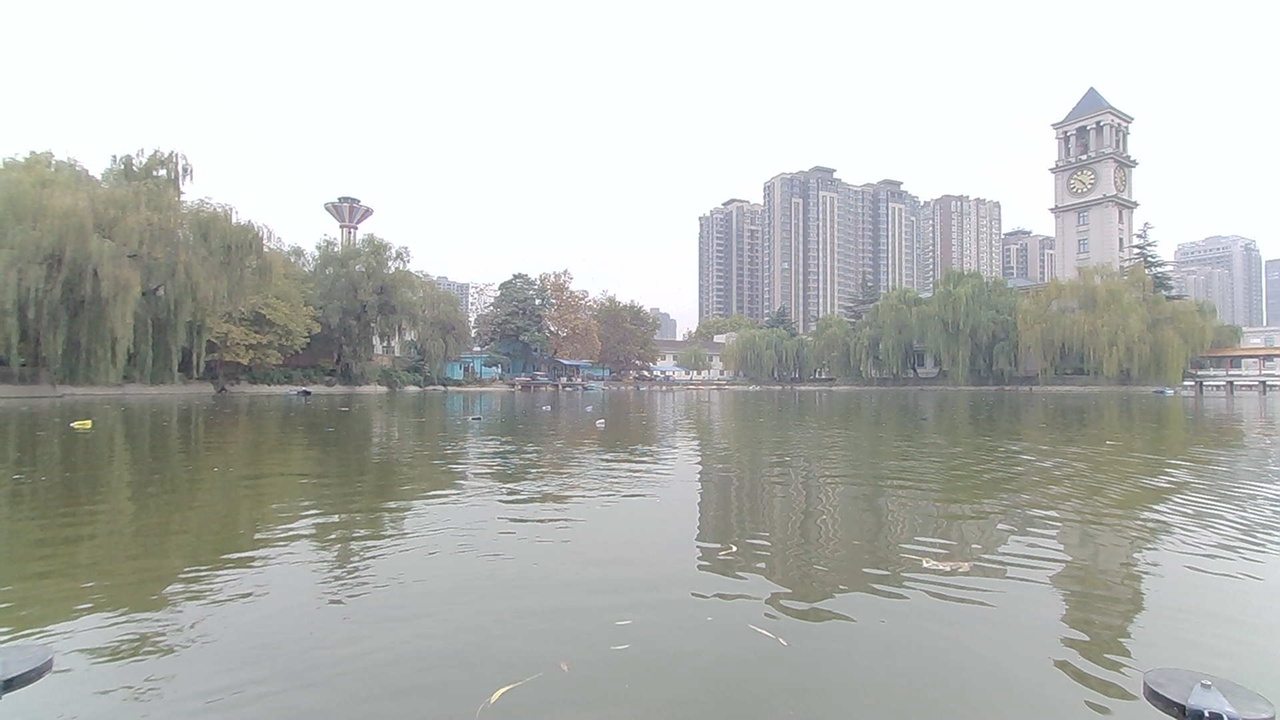bottle: (69, 413, 99, 437), (467, 403, 497, 425), (593, 407, 623, 428), (577, 392, 610, 409), (542, 398, 564, 417)
